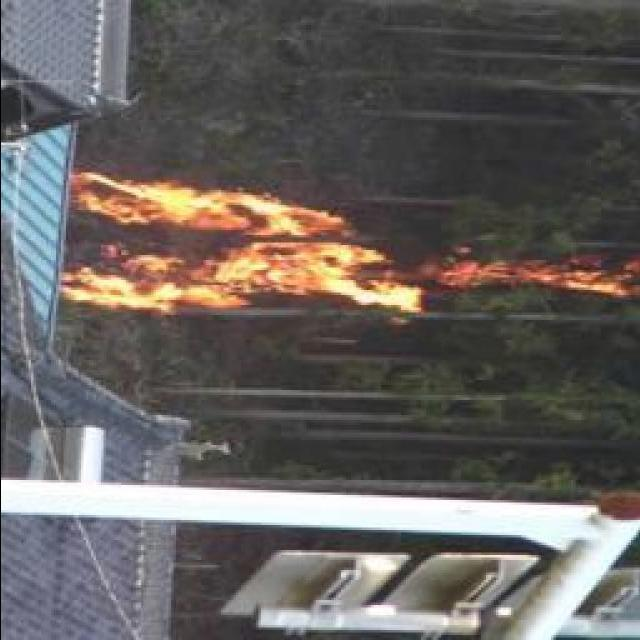Fire: (58, 166, 624, 322)
